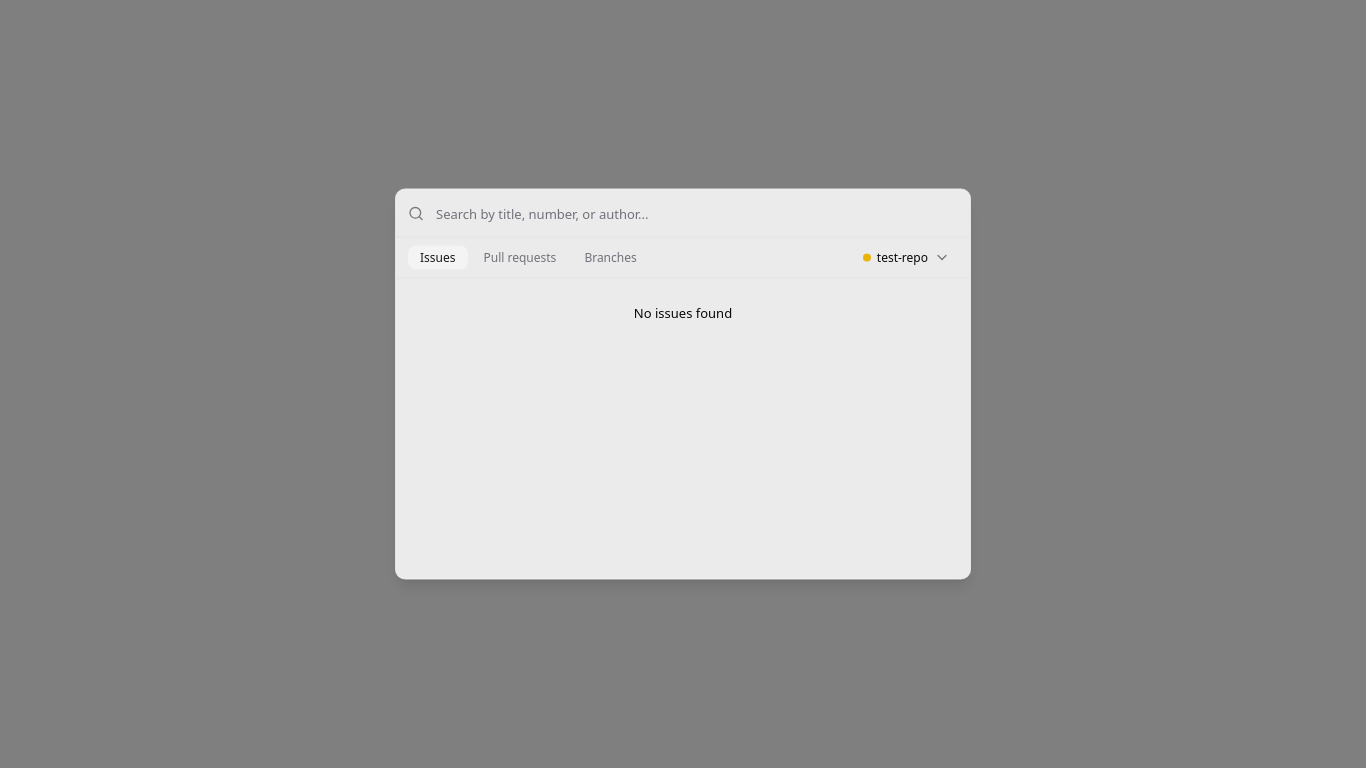
Test: CreateSessionModal › shows PR list on the Pull requests tab
Click the button "Pull requests".
click(520, 258)  # box [472,246,568,270]
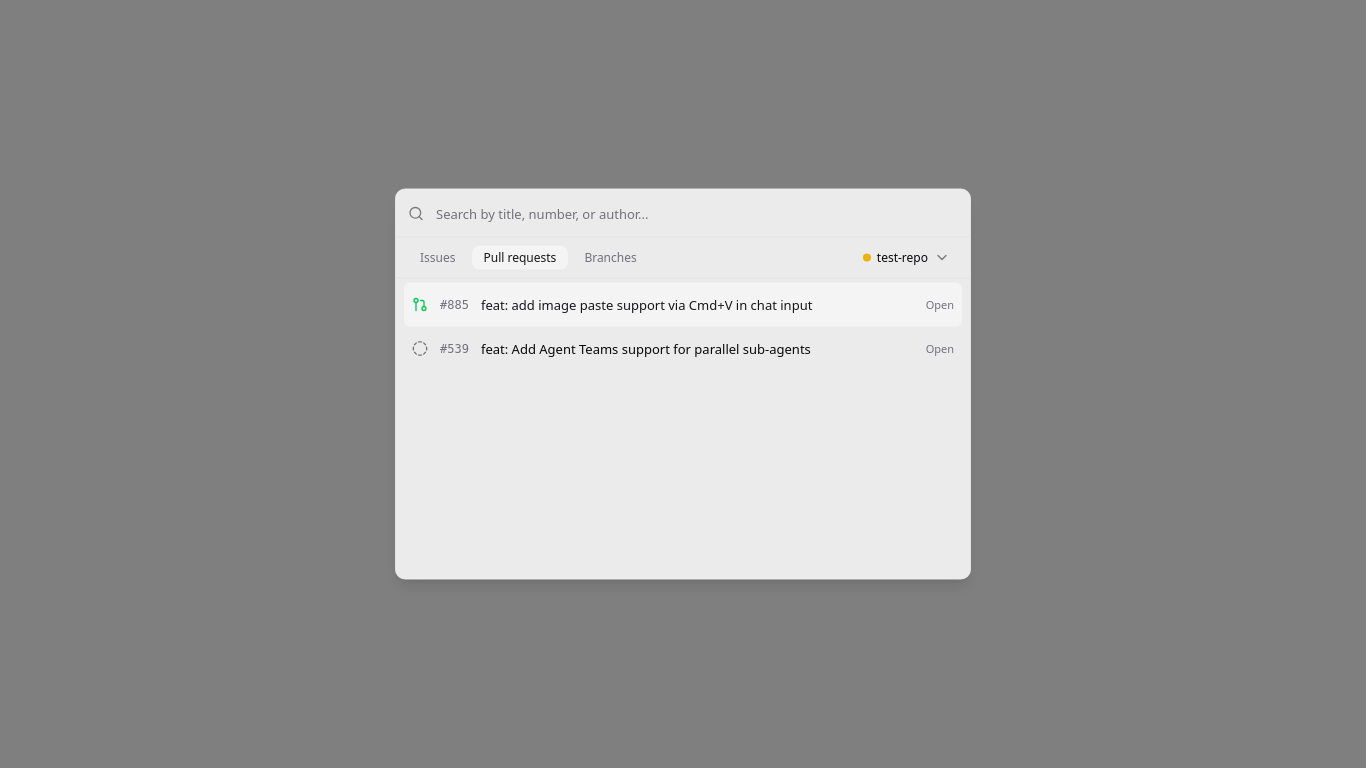
Now the text "feat: add image paste support via Cmd+V in chat input" is shown, box [481,296,812,314]
Now the text "#885" is shown, box [440,296,469,312]
